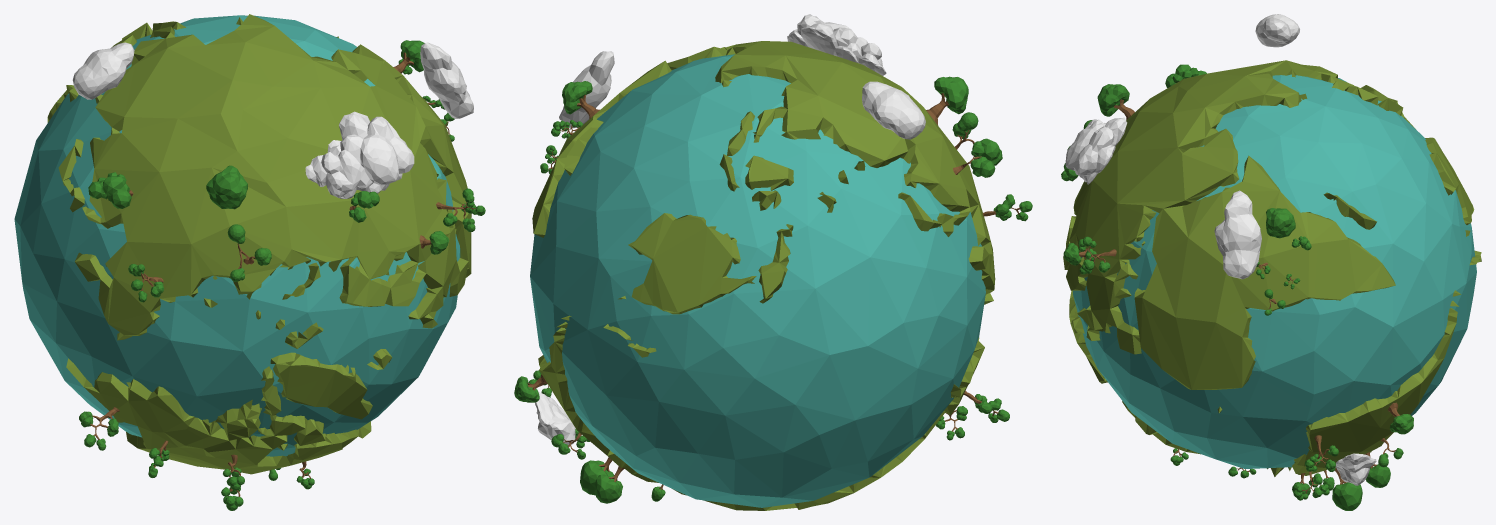
Rendered from STEAD.fbx.
The picture shows the model from 3 angles, left to right: view 1: azimuth 30°, elevation 25°; view 2: azimuth 150°, elevation 25°; view 3: azimuth 270°, elevation 25°; orthographic projection. The views are drawn at different scales.
Parts seen in each view (by area): view 1: all_good.004; view 2: all_good.004; view 3: all_good.004.
Part boxes in pixels (<box>): all_good.004: <box>14,14,485,510</box>; all_good.004: <box>514,14,1032,510</box>; all_good.004: <box>1061,14,1481,510</box>.
Bounding box in the file's own units: 103 × 107 × 102.
